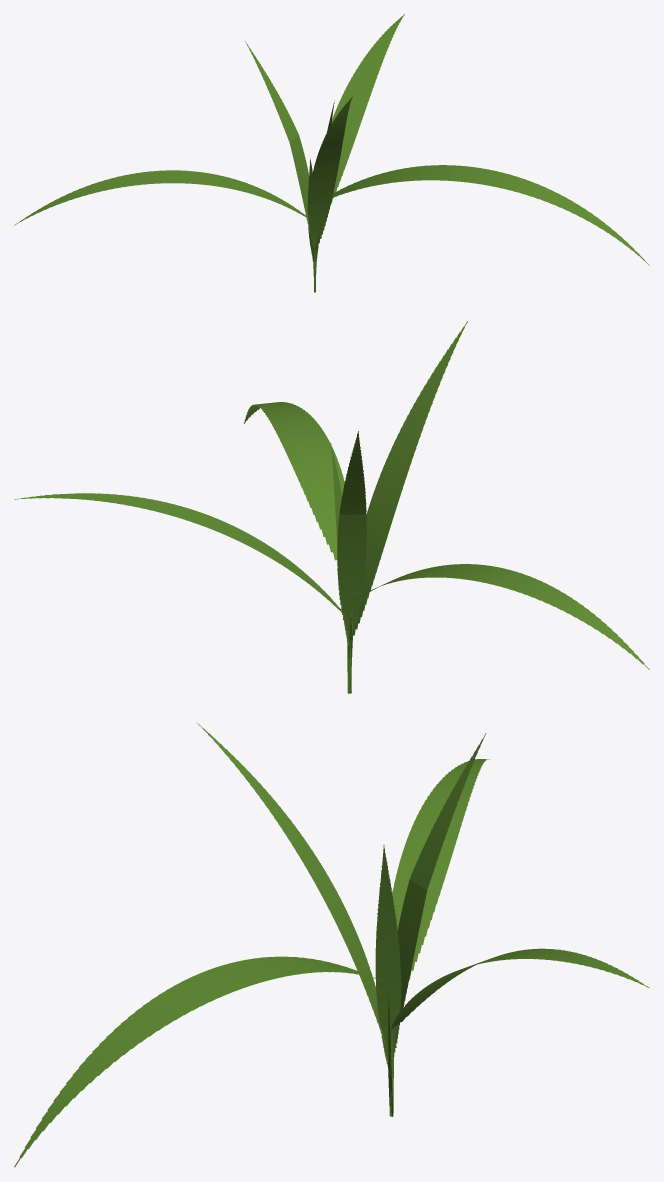
The model's file is maize_001_day_060.dae.
3 views of the same model, one above another, from view 1: azimuth 30°, elevation 25°; view 2: azimuth 150°, elevation 25°; view 3: azimuth 270°, elevation 25° (orthographic). The views are drawn at different scales.
Parts seen in each view (by area): view 1: node; view 2: node; view 3: node.
Boxes of the visible parts, box(x1,y1,x2,y2) form: node: box(14, 14, 649, 292); node: box(14, 321, 649, 693); node: box(14, 723, 649, 1167).
Size of the model in its own units: 0.7396 by 0.3708 by 0.5718.
Materials: 1 (1 with a texture image).
